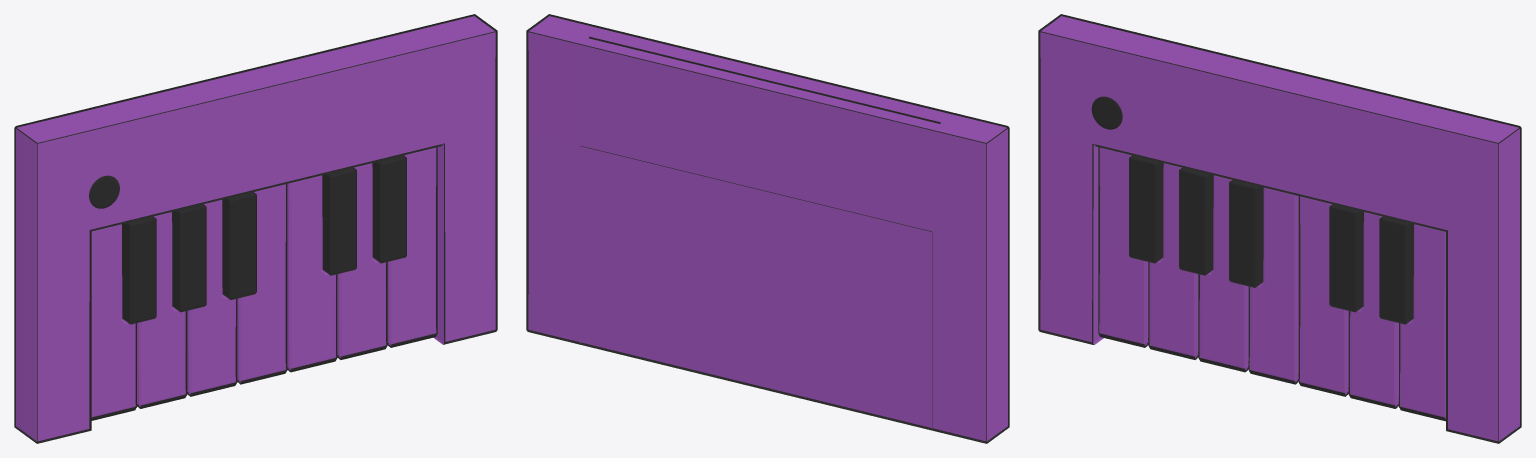
Rendered from Keyboard.glb.
3 renders of one model, left to right at view 1: azimuth 30°, elevation 25°; view 2: azimuth 150°, elevation 25°; view 3: azimuth 330°, elevation 25°, orthographic.
Parts seen in each view (by area): view 1: KEY; view 2: KEY; view 3: KEY.
Boxes of the visible parts, x1,y1,x2,y2 form: KEY: (14,14,497,443); KEY: (526,14,1009,443); KEY: (1038,14,1521,443).
Bounding box in the file's own units: 2.46 × 1.54 × 0.2188.
